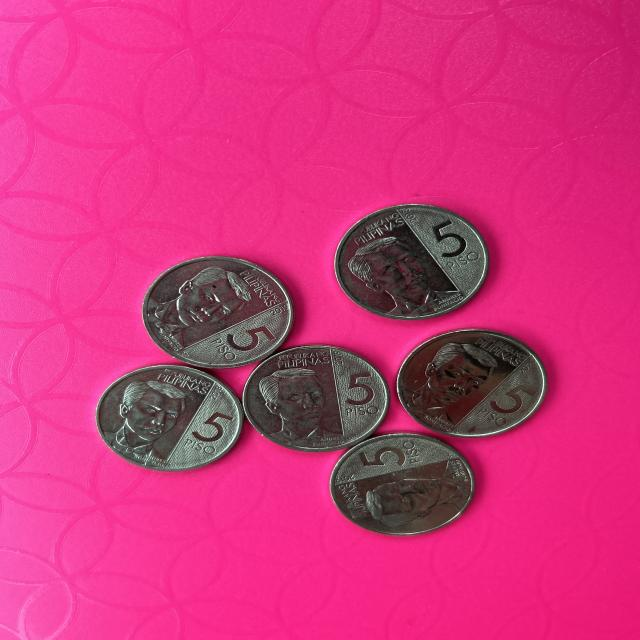5_New_Front: (420, 213, 484, 273), (473, 376, 538, 432), (206, 319, 280, 363), (185, 396, 239, 454), (336, 362, 384, 426), (349, 440, 423, 472)
